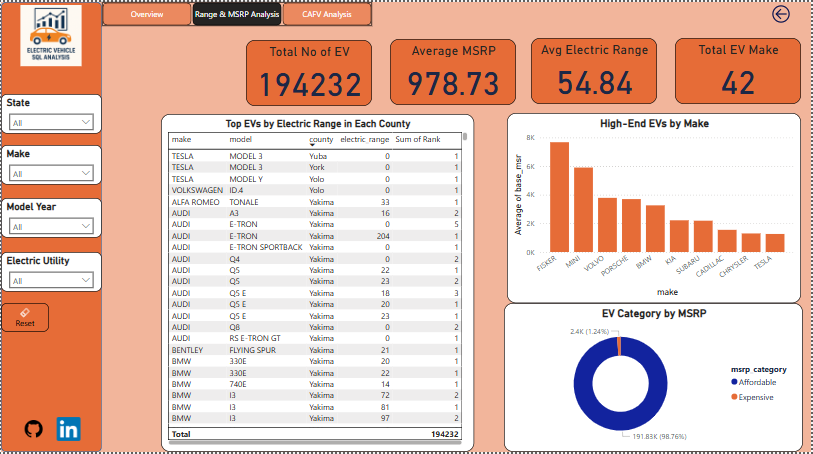

This screenshot's page, from the dashboard's own definition file:
{"tool":"powerbi","page":{"name":"Range & MSRP Analysis","canvas":[1350,750],"ordinal":1},"visuals":[{"type":"card","title":"Total No of EV","fields":{"Values":["public ev_sales_table.Total Number of EV"]},"box":[408.3,63.3,210,110],"z":0},{"type":"shape","box":[0,0,168,750],"z":1000},{"type":"card","title":"Average MSRP","fields":{"Values":["public ev_sales_table.avegrage_msrp"]},"box":[648.3,61.7,210,110],"z":2000},{"type":"card","title":"Avg Electric Range","fields":{"Values":["public ev_sales_table.average_electric_range"]},"box":[883.3,60,210,110],"z":3000},{"type":"card","title":"Total EV Make","fields":{"Values":["public ev_sales_table.total_ev_makes"]},"box":[1123.3,60,210,110],"z":4000},{"type":"slicer","title":"State","fields":{"Values":["public ev_sales_table.state"]},"box":[0,154,168,66],"z":5000},{"type":"slicer","title":"Make","fields":{"Values":["public ev_sales_table.make"]},"box":[0,238,168,66],"z":6000},{"type":"slicer","title":"Model Year","fields":{"Values":["public ev_sales_table.model_year"]},"box":[0,326,168,66],"z":7000},{"type":"slicer","title":"Electric Utility","fields":{"Values":["public ev_sales_table.electric_utility"]},"box":[0,416,168,66],"z":8000},{"type":"image","box":[24,0,120,112],"z":9000},{"type":"image","box":[28,686,52,50],"z":10000},{"type":"image","box":[82,686,62,50],"z":11000},{"type":"tableEx","title":"Top EVs by Electric Range in Each County","fields":{"Values":["public ev_sales_table.make","public ev_sales_table.model","public ev_sales_table.county","public ev_sales_table.electric_range","Sum(public ev_sales_table.Rank)"]},"box":[266.7,186.7,521.7,563.3],"z":12000},{"type":"donutChart","title":"EV Category by MSRP","fields":{"Category":["public ev_sales_table.msrp_category"],"Y":["CountNonNull(public ev_sales_table.msrp_category)"]},"box":[838.3,501.7,498.3,248.3],"z":13000},{"type":"clusteredColumnChart","title":"High-End EVs by Make","fields":{"Category":["public ev_sales_table.make"],"Y":["Avg(public ev_sales_table.base_msr)"]},"box":[843.3,185,490,316.7],"z":14000},{"type":"actionButton","box":[0,501.7,80,48.3],"z":15000},{"type":"actionButton","box":[1280,0,53.3,40],"z":16000},{"type":"pageNavigator","box":[168.3,0,450,40],"z":17001}]}

Visuals, with their boxes in screenshot pixels (x1, y1, x2, y2), scaled from the page's 1350x750 canvas onto the 813x454 screenshot:
"Total No of EV" card: (x1=246, y1=38, x2=372, y2=105)
shape: (x1=0, y1=0, x2=101, y2=453)
"Average MSRP" card: (x1=390, y1=37, x2=517, y2=104)
"Avg Electric Range" card: (x1=532, y1=36, x2=658, y2=103)
"Total EV Make" card: (x1=676, y1=36, x2=803, y2=103)
"State" slicer: (x1=0, y1=93, x2=101, y2=133)
"Make" slicer: (x1=0, y1=144, x2=101, y2=184)
"Model Year" slicer: (x1=0, y1=197, x2=101, y2=237)
"Electric Utility" slicer: (x1=0, y1=252, x2=101, y2=292)
image: (x1=14, y1=0, x2=87, y2=68)
image: (x1=17, y1=415, x2=48, y2=446)
image: (x1=49, y1=415, x2=87, y2=446)
"Top EVs by Electric Range in Each County" tableEx: (x1=161, y1=113, x2=475, y2=453)
"EV Category by MSRP" donutChart: (x1=505, y1=304, x2=805, y2=453)
"High-End EVs by Make" clusteredColumnChart: (x1=508, y1=112, x2=803, y2=304)
actionButton: (x1=0, y1=304, x2=48, y2=333)
actionButton: (x1=771, y1=0, x2=803, y2=24)
pageNavigator: (x1=101, y1=0, x2=372, y2=24)
